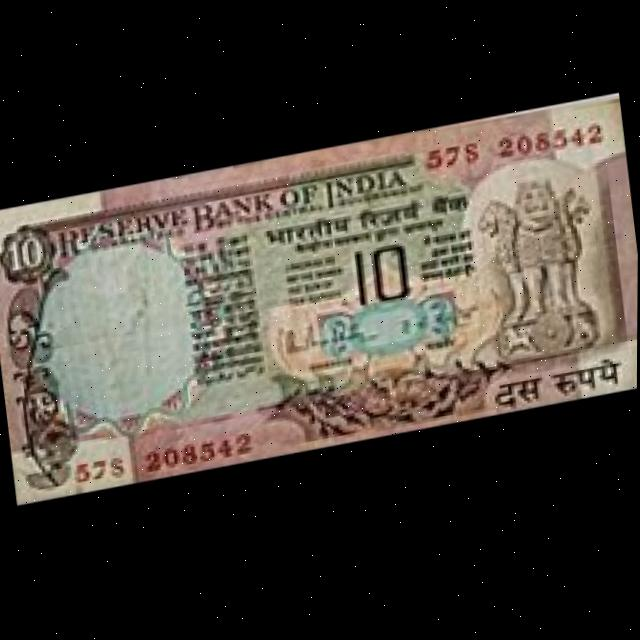banknote: (0, 94, 639, 506)
